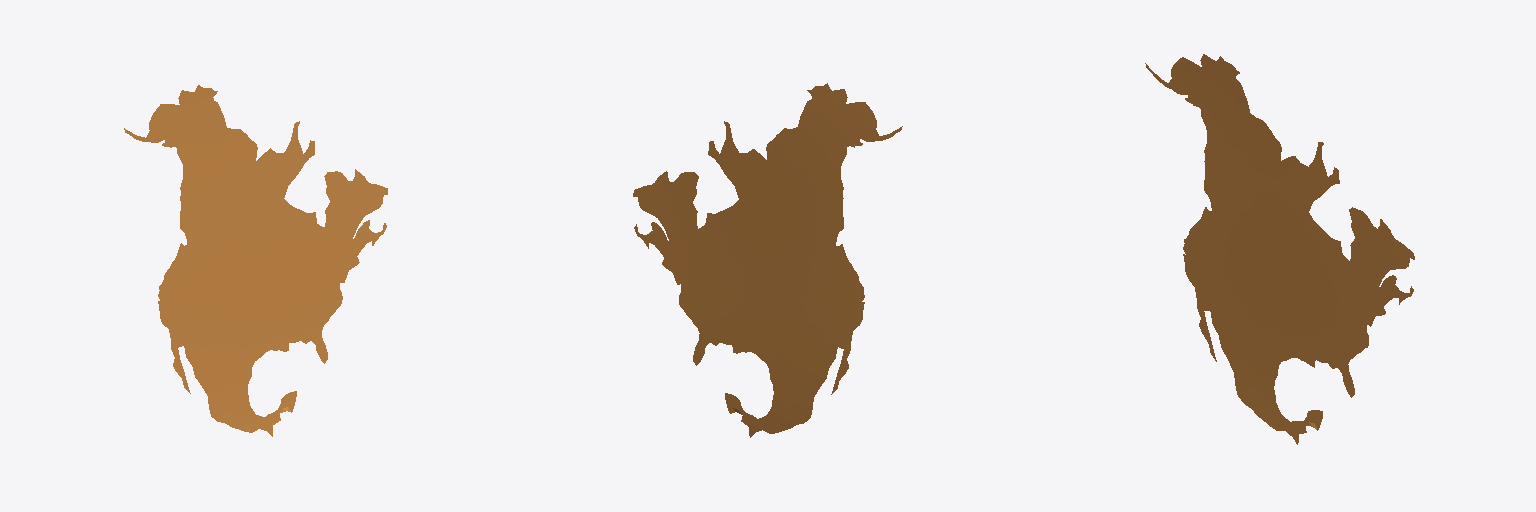
The model's file is america.obj.
3 views of the same model, side by side, from view 1: azimuth 30°, elevation 25°; view 2: azimuth 150°, elevation 25°; view 3: azimuth 330°, elevation 25° (orthographic).
Size of the model in its own units: 8.75 by 11.68 by 0.1655.